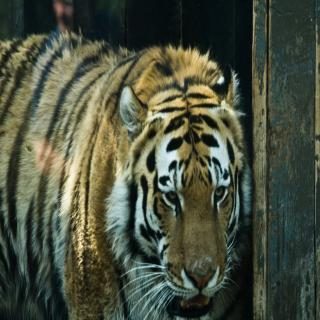Tiger: (0, 34, 250, 320)
